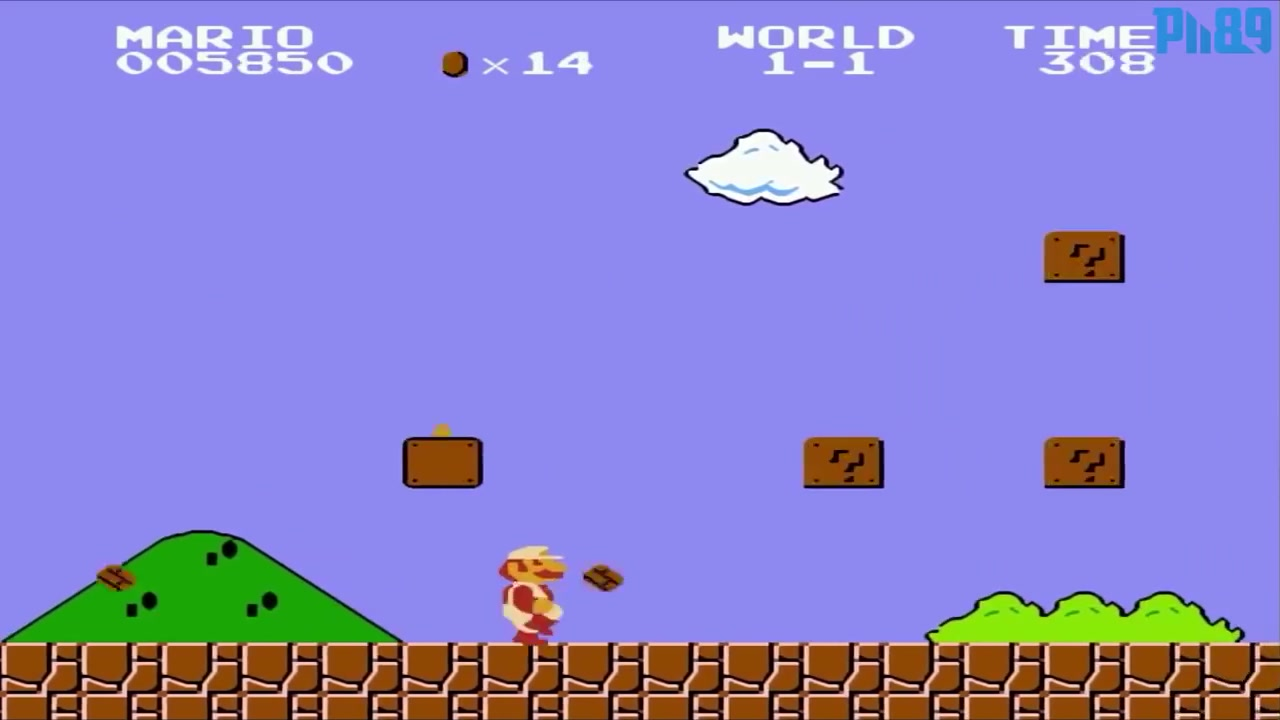mario: (495, 531, 574, 652)
